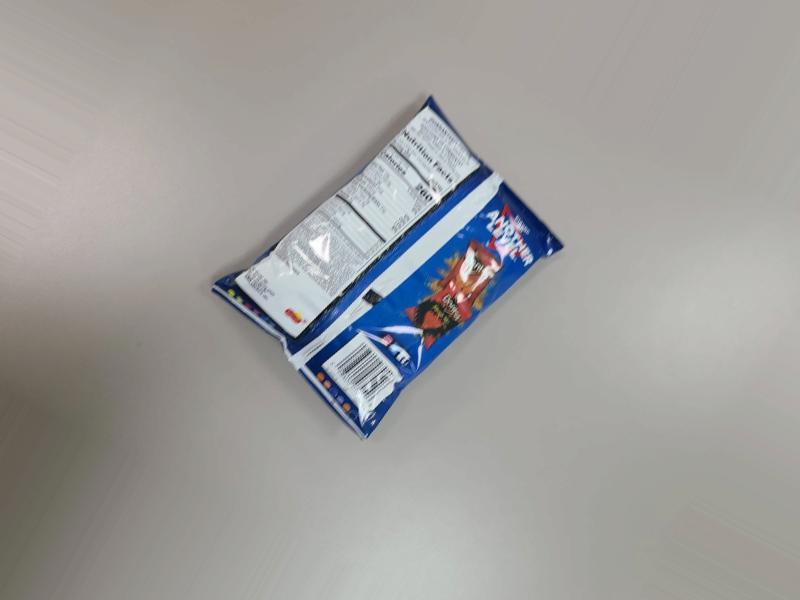doritos: (218, 101, 570, 461)
